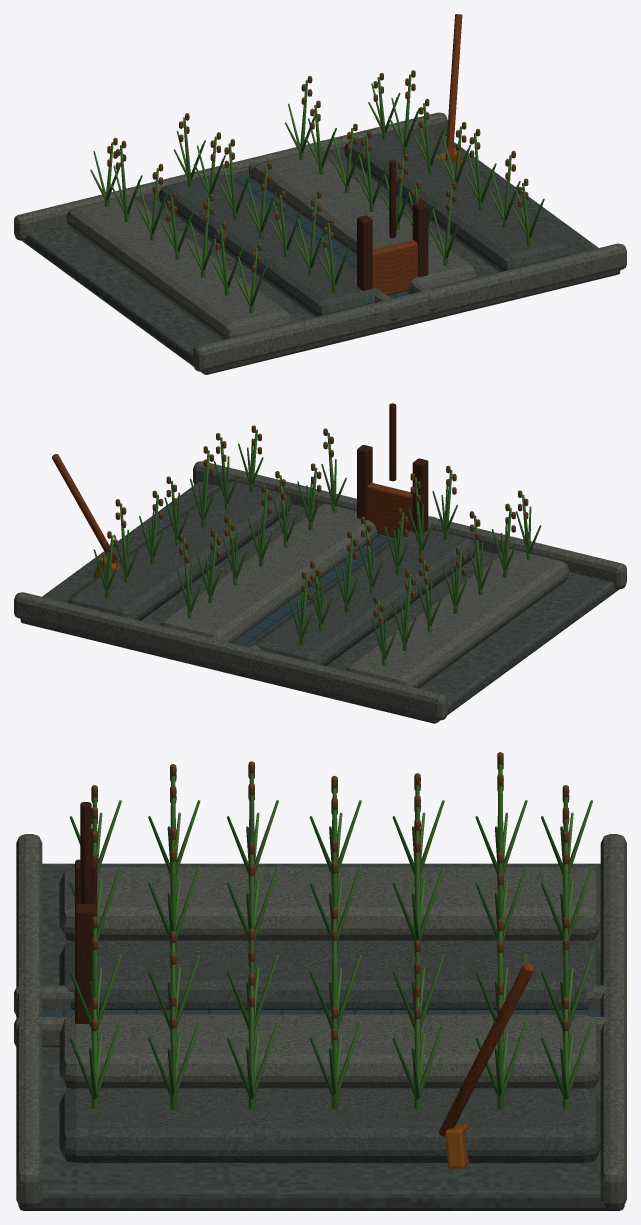
Rendered from prop_crops.glb.
3 renders of one model, top to bottom at view 1: azimuth 30°, elevation 25°; view 2: azimuth 150°, elevation 25°; view 3: azimuth 270°, elevation 25°, orthographic. The views are drawn at different scales.
Visible parts, largest first — view 1: FieldBase, RaisedBed_00, FieldEdge, RaisedBed_01, RaisedBed_03, RaisedBed_02, FieldEdge.001, SluiceGate, IrrigationWater, SluicePost, HoeHandle, SluicePost.001 (+1 smaller); view 2: FieldBase, FieldEdge.001, RaisedBed_00, RaisedBed_02, RaisedBed_03, RaisedBed_01, FieldEdge, IrrigationWater, SluiceGate, SluicePost.001, SluicePost, HoeHandle (+1 smaller); view 3: RaisedBed_03, FieldBase, RaisedBed_00, RaisedBed_02, RaisedBed_01, FieldEdge.001, FieldEdge, HoeHandle, IrrigationWater, SluicePost.001, ChannelLining, SluiceHandle (+2 smaller).
Boxes of the visible parts, x1,y1,x2,y2 form: FieldBase: [22, 133, 620, 374]; RaisedBed_00: [66, 197, 291, 339]; FieldEdge: [193, 243, 626, 371]; RaisedBed_01: [159, 174, 381, 317]; RaisedBed_03: [344, 128, 569, 271]; RaisedBed_02: [252, 151, 476, 294]; FieldEdge.001: [14, 112, 447, 240]; SluiceGate: [372, 240, 417, 295]; IrrigationWater: [234, 175, 408, 298]; SluicePost: [357, 215, 372, 290]; HoeHandle: [445, 14, 462, 161]; SluicePost.001: [412, 202, 428, 277]; FieldBase: [20, 481, 618, 723]; FieldEdge.001: [14, 592, 447, 720]; RaisedBed_00: [345, 549, 569, 688]; RaisedBed_02: [160, 504, 379, 642]; RaisedBed_03: [67, 481, 291, 620]; RaisedBed_01: [254, 528, 475, 665]; FieldEdge: [193, 461, 626, 589]; IrrigationWater: [232, 534, 395, 647]; SluiceGate: [367, 483, 412, 538]; SluicePost.001: [357, 445, 372, 519]; SluicePost: [412, 458, 428, 532]; HoeHandle: [52, 454, 119, 563]; RaisedBed_03: [59, 1088, 600, 1162]; FieldBase: [18, 863, 624, 1210]; RaisedBed_00: [59, 866, 600, 941]; RaisedBed_02: [59, 1014, 600, 1088]; RaisedBed_01: [59, 940, 600, 1009]; FieldEdge.001: [600, 834, 626, 1208]; FieldEdge: [16, 834, 42, 1208]; HoeHandle: [439, 963, 534, 1136]; IrrigationWater: [42, 1010, 600, 1016]; SluicePost.001: [75, 904, 96, 1023]; ChannelLining: [14, 985, 607, 1015]; SluiceHandle: [80, 802, 91, 903].
Size of the model in its own units: 3.72 by 1.23 by 2.81.
9 materials, 9 textured.
